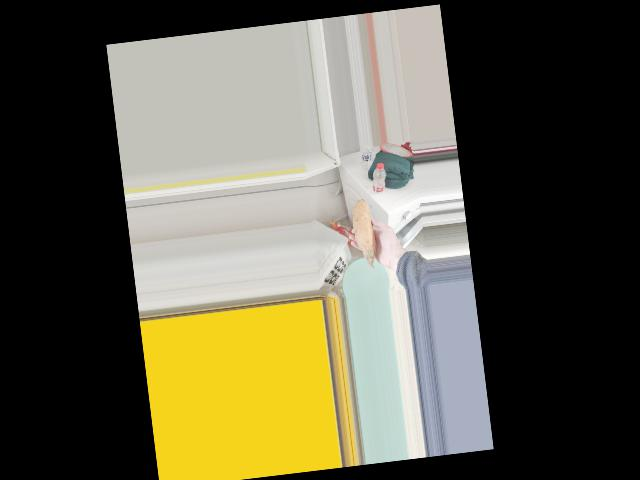sweet_potato: (350, 192, 380, 255)
